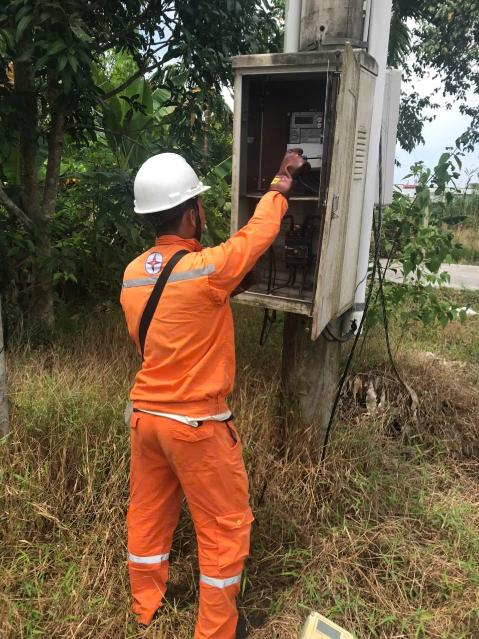gloves: (262, 147, 319, 201)
helmet: (122, 150, 215, 221)
